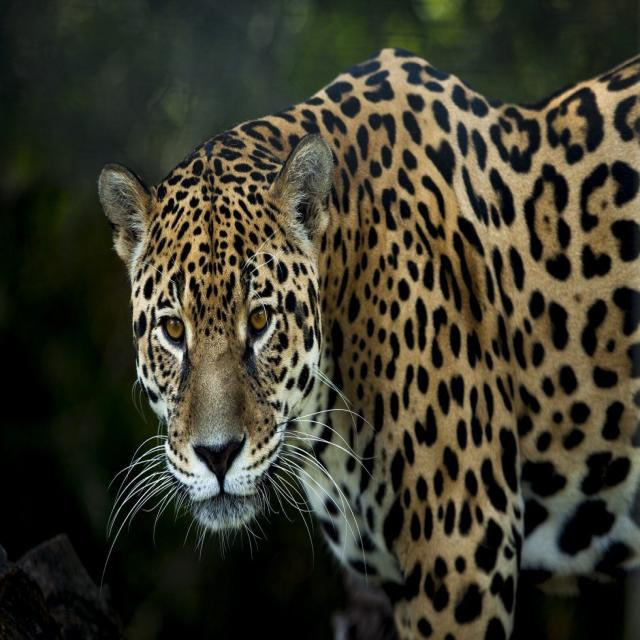Jaguar: (96, 44, 640, 640)
